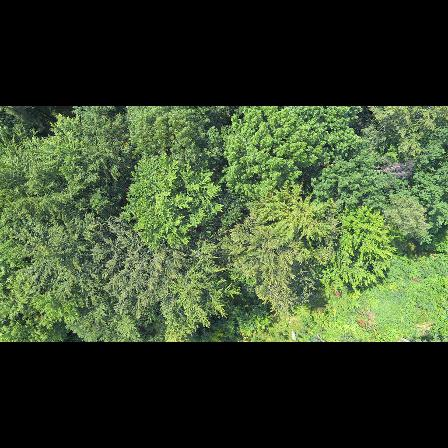Dead: (374, 154, 419, 181)
